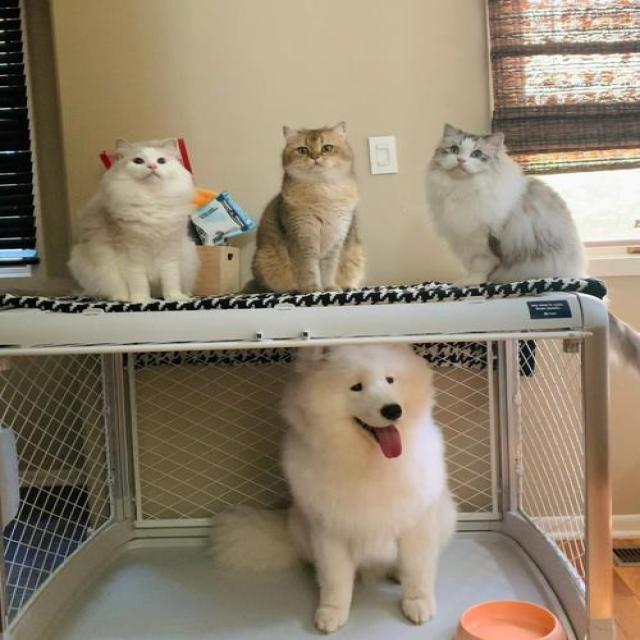cat: (45, 110, 228, 314), (413, 112, 600, 300), (260, 115, 386, 306)
dog: (245, 337, 483, 640)
